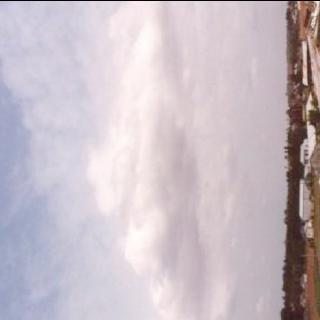Cirrocumulus: (1, 0, 280, 320)
